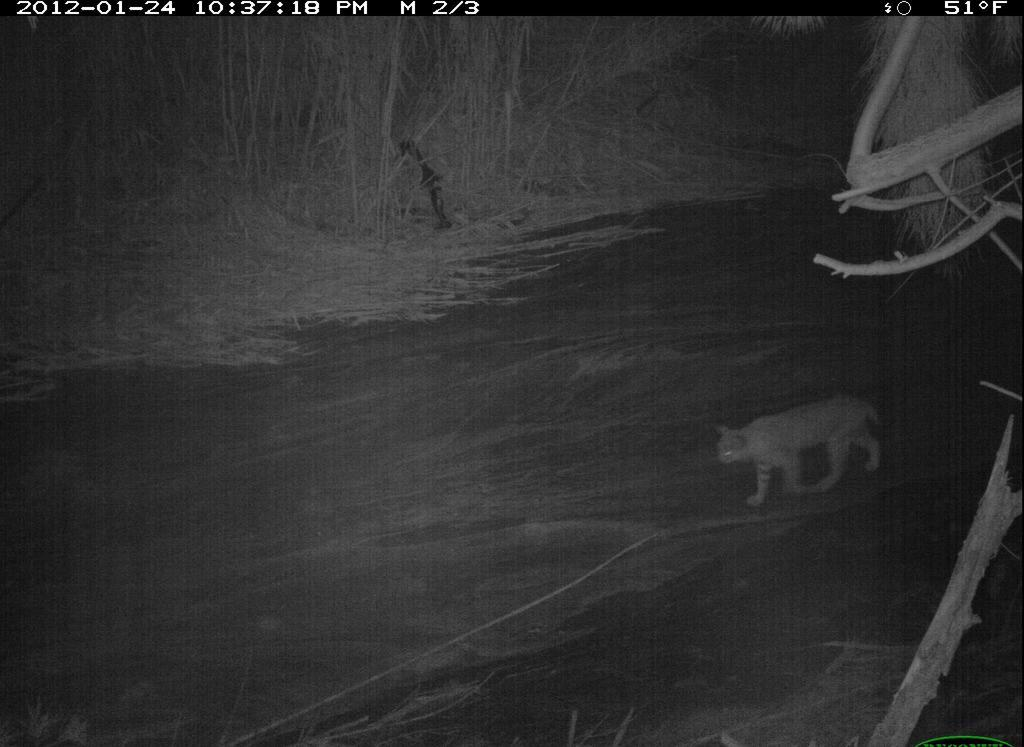bobcat: (707, 390, 890, 510)
